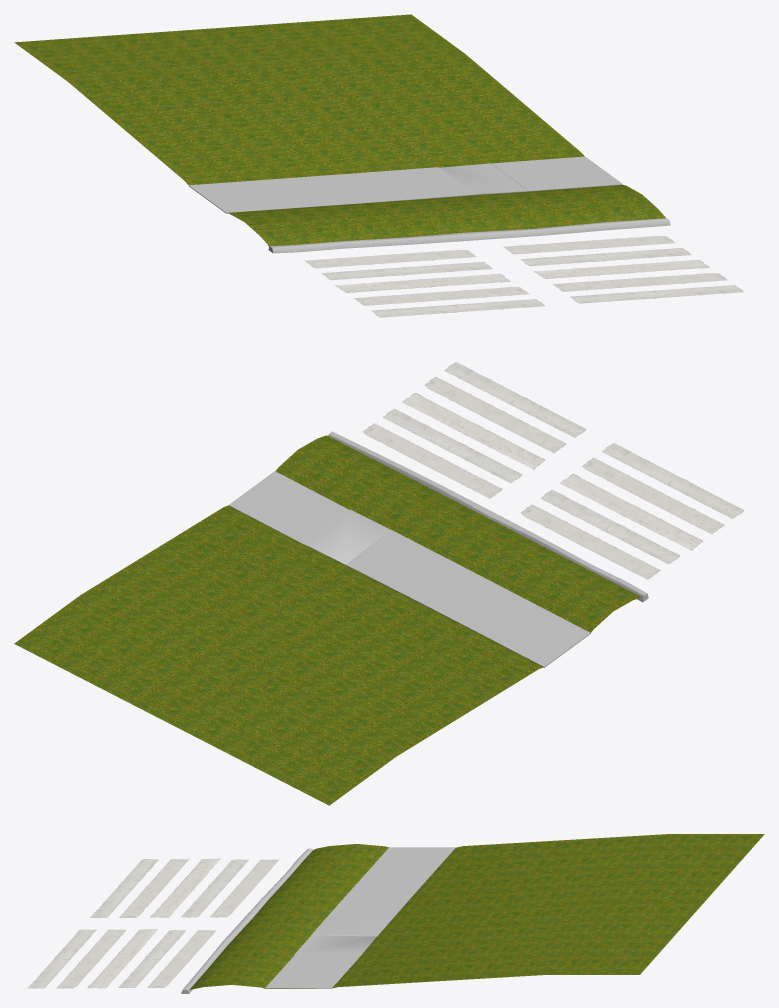
Rendered from Road_8x_35.fbx.
3 renders of one model, top to bottom at view 1: azimuth 30°, elevation 25°; view 2: azimuth 150°, elevation 25°; view 3: azimuth 270°, elevation 25°, orthographic. The views are drawn at different scales.
Visible parts, largest first — view 1: Road_8x_35; view 2: Road_8x_35; view 3: Road_8x_35.
Part boxes in pixels (x1=…): Road_8x_35: x1=14, y1=14, x2=743, y2=317; Road_8x_35: x1=14, y1=362, x2=743, y2=805; Road_8x_35: x1=28, y1=834, x2=764, y2=993.
Size of the model in its own units: 801 by 50.07 by 1800.
